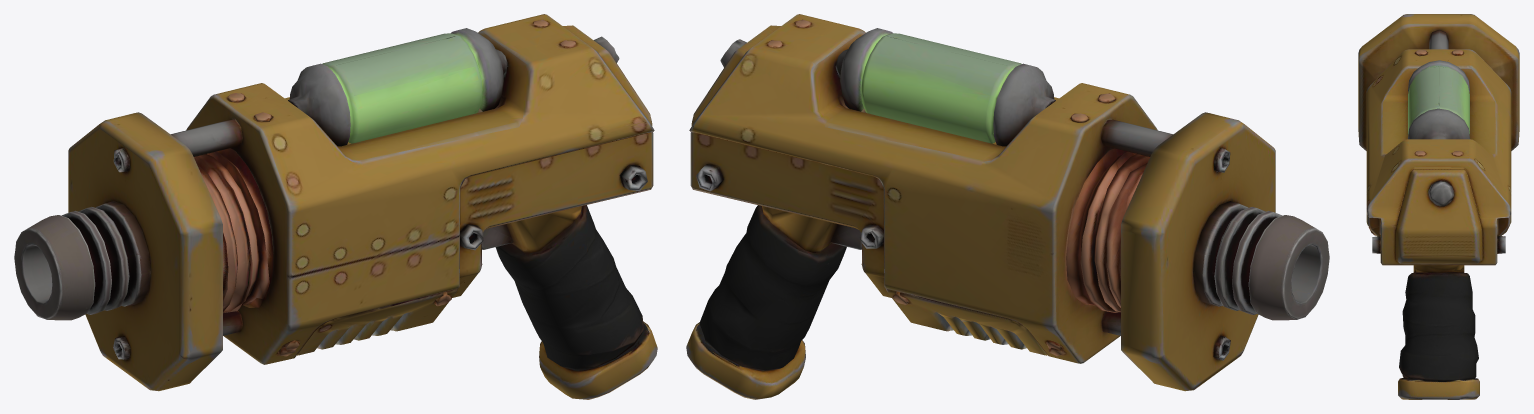
The model's file is asset_pack_item_glb-vd7fm7jh9n4pdmfxcqf3jxeps98c808x-0-ks73qytpfc8th8qk8s4k9v4h4h8c9ecw.glb.
The picture shows the model from 3 angles, left to right: view 1: azimuth 30°, elevation 25°; view 2: azimuth 150°, elevation 25°; view 3: azimuth 270°, elevation 25°; orthographic projection. The views are drawn at different scales.
Parts seen in each view (by area): view 1: Ionbreaker Service Caster; view 2: Ionbreaker Service Caster; view 3: Ionbreaker Service Caster.
Boxes of the visible parts, x1,y1,x2,y2 form: Ionbreaker Service Caster: (14, 14, 657, 399); Ionbreaker Service Caster: (686, 14, 1329, 399); Ionbreaker Service Caster: (1358, 14, 1519, 399).
Bounding box in the file's own units: 0.998 × 0.6035 × 0.3418.
Materials: 1 (1 with a texture image).
